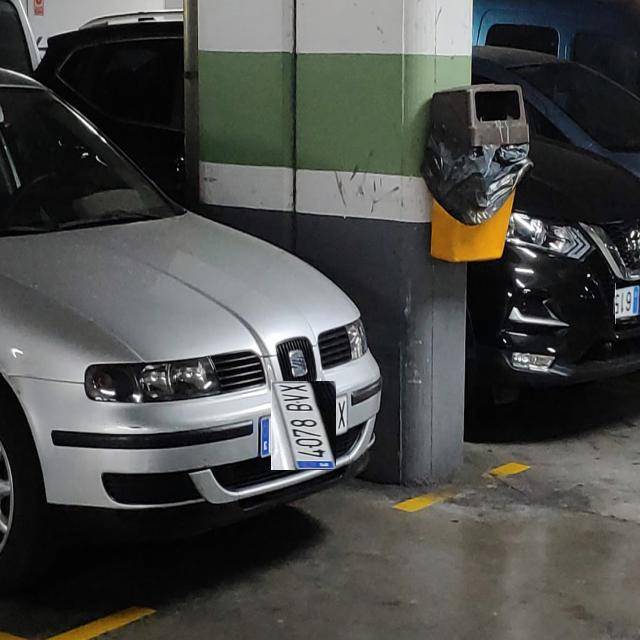License-Plate: (265, 387, 343, 464), (615, 282, 640, 324)
